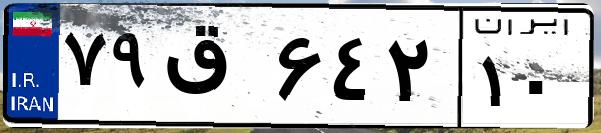0: (525, 38, 570, 115)
1: (475, 38, 525, 113)
2: (385, 28, 445, 110)
4: (330, 28, 385, 110)
6: (270, 28, 330, 110)
7: (57, 26, 110, 100)
9: (110, 28, 158, 98)
ق: (158, 20, 270, 120)
